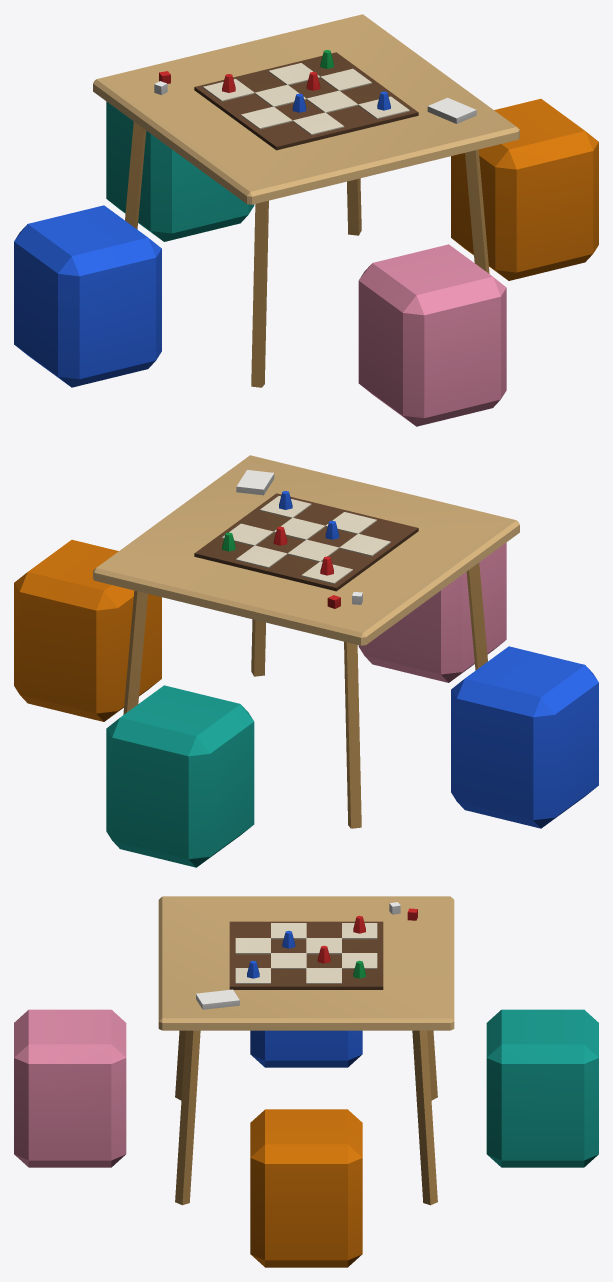
Rendered from table_boardgame_01.glb.
3 views of the same model, one above another, from view 1: azimuth 30°, elevation 25°; view 2: azimuth 150°, elevation 25°; view 3: azimuth 270°, elevation 25° (orthographic). The views are drawn at different scales.
Parts seen in each view (by area): view 1: table_boardgame_01_mesh; view 2: table_boardgame_01_mesh; view 3: table_boardgame_01_mesh.
Part boxes in pixels (x1,y1,x2,y2): table_boardgame_01_mesh: [14, 14, 598, 426]; table_boardgame_01_mesh: [14, 455, 598, 867]; table_boardgame_01_mesh: [14, 896, 598, 1267].
Bounding box in the file's own units: 1.98 × 0.7875 × 1.98.
Materials: 1 (1 with a texture image).
